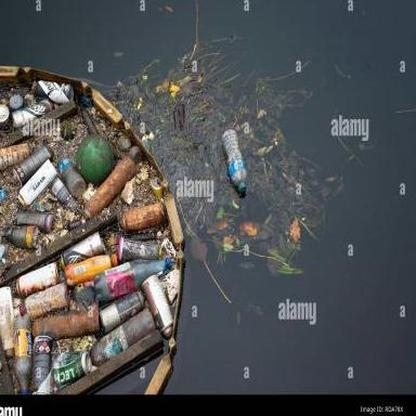can: (49, 346, 92, 385)
plastic bottle: (222, 129, 248, 191), (13, 316, 31, 393)
